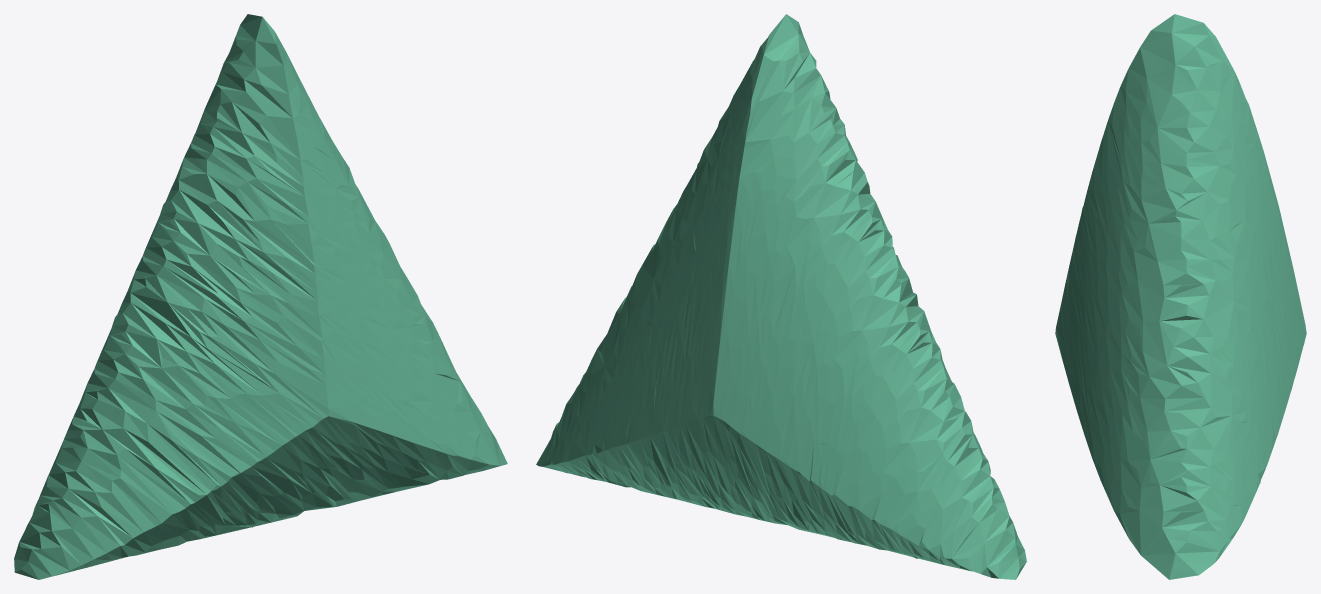
3 views of the same model, side by side, from view 1: azimuth 30°, elevation 25°; view 2: azimuth 150°, elevation 25°; view 3: azimuth 270°, elevation 25° (orthographic). The views are drawn at different scales.
Visible parts, largest first — view 1: geometry_0; view 2: geometry_0; view 3: geometry_0.
Part boxes in pixels (box(x1,y1,x2,y2)): geometry_0: box(14, 14, 507, 579); geometry_0: box(536, 14, 1026, 579); geometry_0: box(1055, 14, 1306, 579).
Size of the model in its own units: 0.9985 by 1 by 0.4964.
